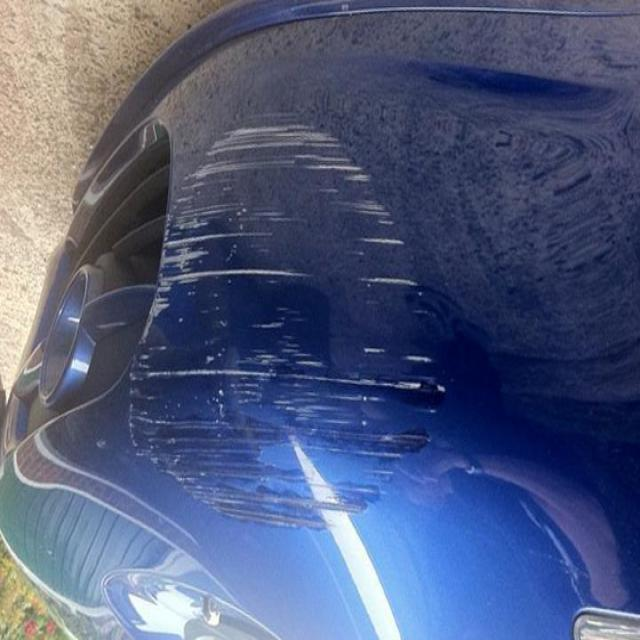scratch: (126, 102, 448, 534)
